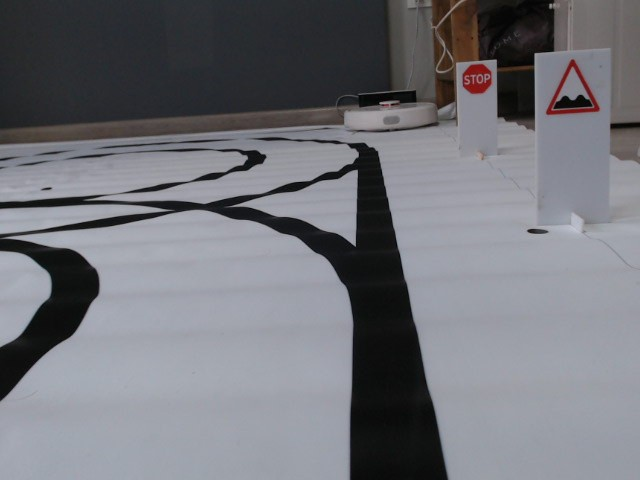Nerov: (543, 57, 604, 117)
